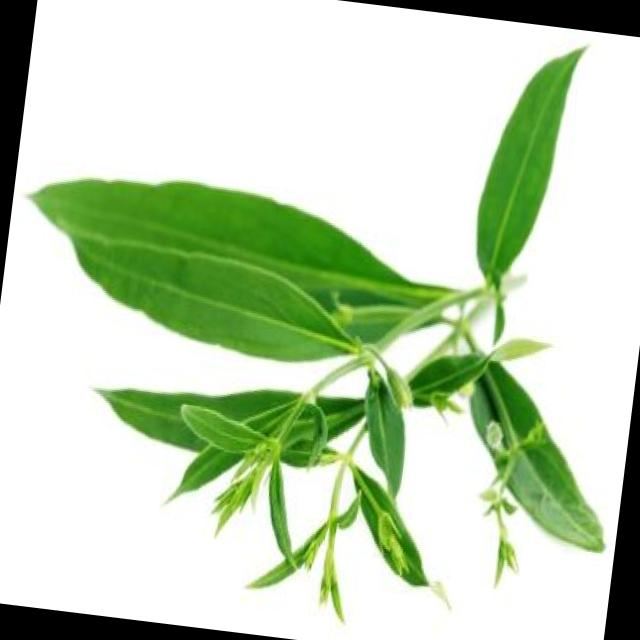Chirata: (16, 114, 600, 510), (162, 274, 640, 640)
